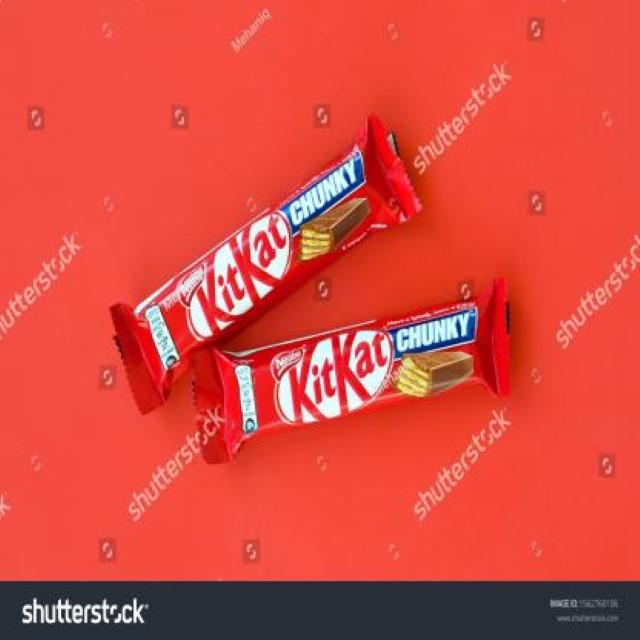kitkat_chocolate: (128, 137, 425, 385), (192, 275, 540, 437)
